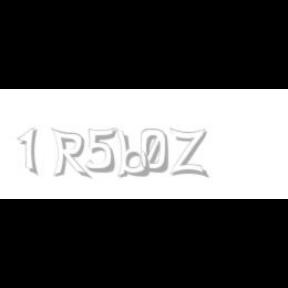0: (140, 128, 171, 174)
1: (17, 128, 39, 176)
5: (86, 128, 116, 174)
R: (51, 128, 89, 180)
Z: (170, 128, 206, 178)
b: (115, 128, 153, 178)
